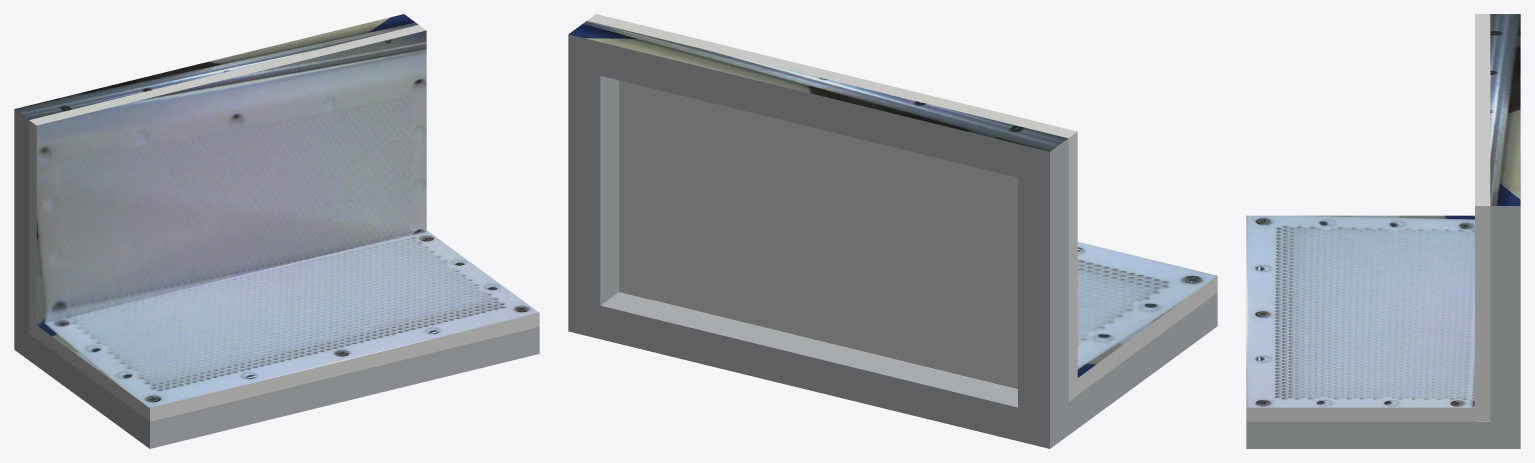
3 views of the same model, side by side, from view 1: azimuth 30°, elevation 25°; view 2: azimuth 150°, elevation 25°; view 3: azimuth 270°, elevation 25° (orthographic). The views are drawn at different scales.
Parts seen in each view (by area): view 1: base_top, upright_front, aluminium, ptfe_edges, metal_front; view 2: ptfe_edges, aluminium, upright_front, metal_front; view 3: upright_front, aluminium, ptfe_edges, metal_front.
Boxes of the visible parts, x1,y1,x2,y2 form: base_top: (36,30,426,324); upright_front: (37,230,538,407); aluminium: (14,109,539,448); ptfe_edges: (29,25,539,421); metal_front: (14,14,418,119); ptfe_edges: (587,14,1217,401); aluminium: (568,34,1217,448); upright_front: (1077,242,1217,377); metal_front: (569,21,1067,151); upright_front: (1246,215,1474,407); aluminium: (1246,206,1520,448); ptfe_edges: (1246,14,1490,421); metal_front: (1490,14,1520,205).
Size of the model in its own units: 0.3001 by 0.1769 by 0.1809.
Materials: 5 (5 with a texture image).
